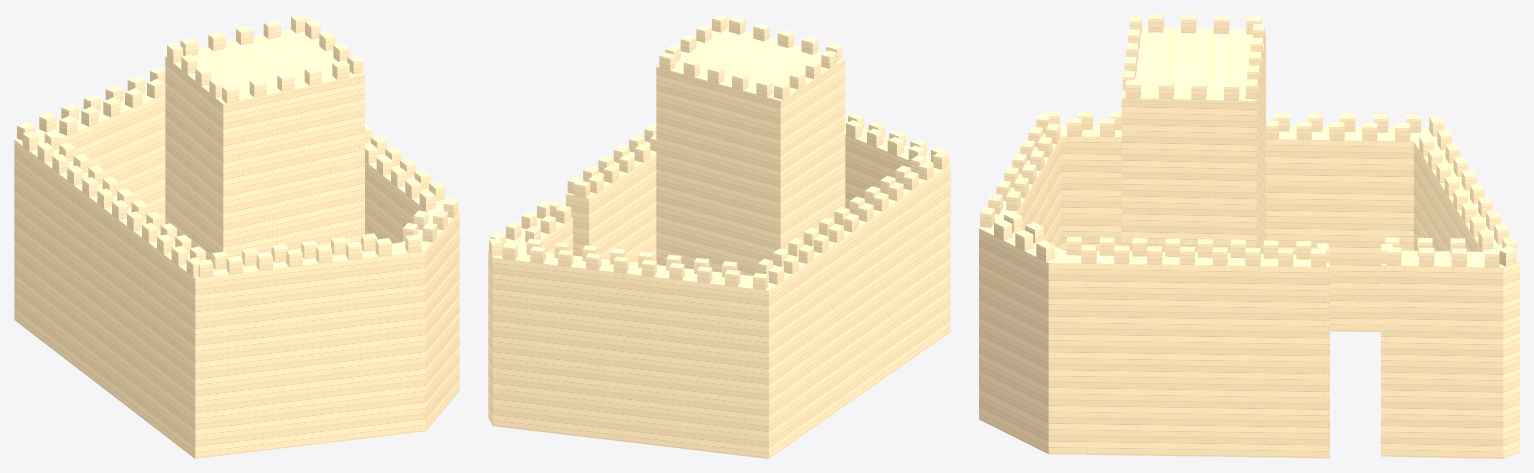
The model's file is landmark-ramana-castle.glb.
3 views of the same model, side by side, from view 1: azimuth 30°, elevation 25°; view 2: azimuth 150°, elevation 25°; view 3: azimuth 270°, elevation 25° (orthographic). The views are drawn at different scales.
Parts seen in each view (by area): view 1: ramana-castle; view 2: ramana-castle; view 3: ramana-castle.
Boxes of the visible parts, <box> form: ramana-castle: <box>14,14,459,458</box>; ramana-castle: <box>488,14,950,458</box>; ramana-castle: <box>979,14,1519,458</box>.
Size of the model in its own units: 20.67 by 22.76 by 32.95.
Materials: 1 (1 with a texture image).
